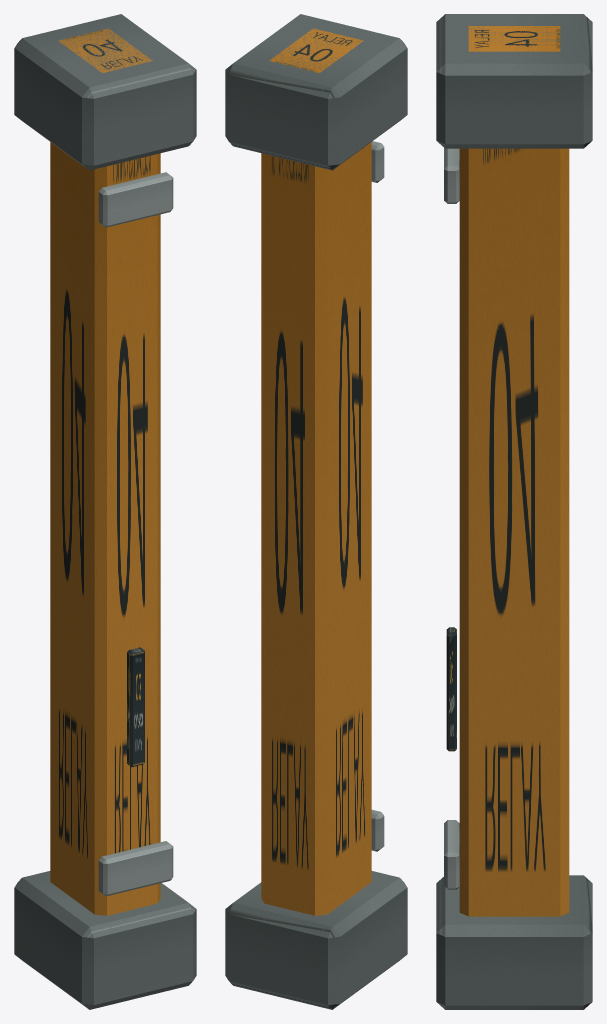
Rendered from column_4m_LOD1.obj.
The picture shows the model from 3 angles, left to right: view 1: azimuth 30°, elevation 25°; view 2: azimuth 150°, elevation 25°; view 3: azimuth 270°, elevation 25°; orthographic projection. The views are drawn at different scales.
Visible parts, largest first — view 1: L02_column_4m_LOD1; view 2: L02_column_4m_LOD1; view 3: L02_column_4m_LOD1.
Boxes of the visible parts, x1,y1,x2,y2 form: L02_column_4m_LOD1: (14,14,196,1009); L02_column_4m_LOD1: (225,14,407,1009); L02_column_4m_LOD1: (436,14,592,1009).
Size of the model in its own units: 0.52 by 4 by 0.6.
1 material, 1 textured.
